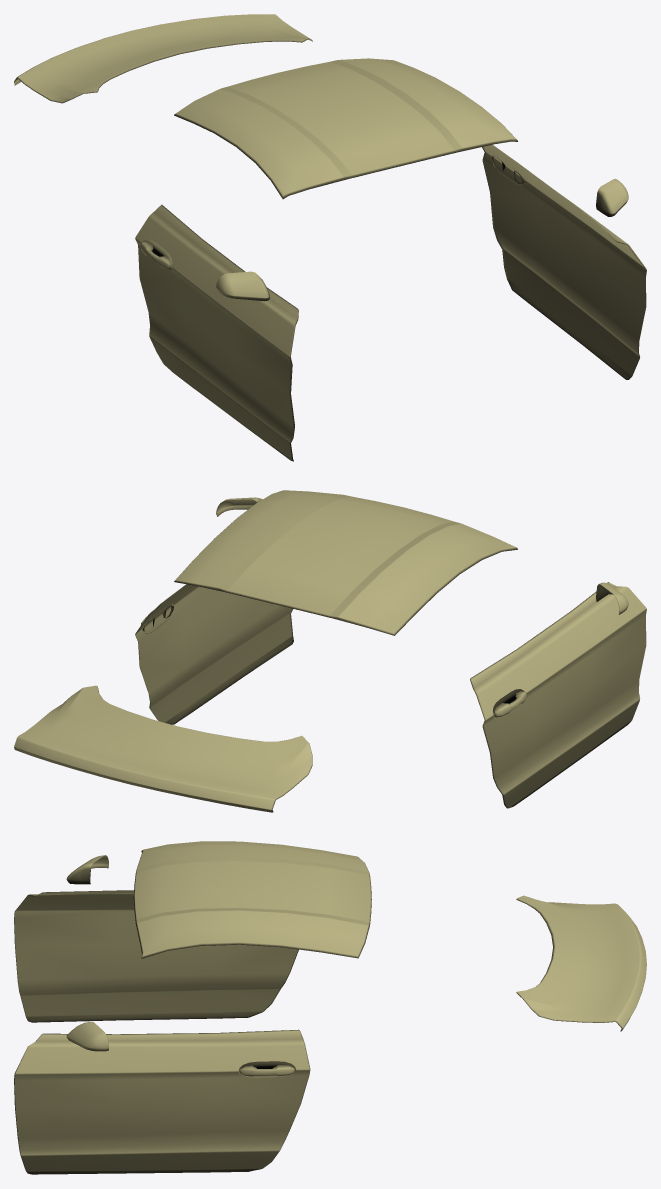
The model's file is Mustang16_Chassis_Duco.fbx.
3 renders of one model, top to bottom at view 1: azimuth 30°, elevation 25°; view 2: azimuth 150°, elevation 25°; view 3: azimuth 270°, elevation 25°, orthographic. The views are drawn at different scales.
Parts seen in each view (by area): view 1: Mustang16_Chassis_Duco; view 2: Mustang16_Chassis_Duco; view 3: Mustang16_Chassis_Duco.
Boxes of the visible parts, <box> form: Mustang16_Chassis_Duco: <box>14,14,646,461</box>; Mustang16_Chassis_Duco: <box>14,490,646,812</box>; Mustang16_Chassis_Duco: <box>14,841,646,1174</box>.
Size of the model in its own units: 208 by 113 by 301.
